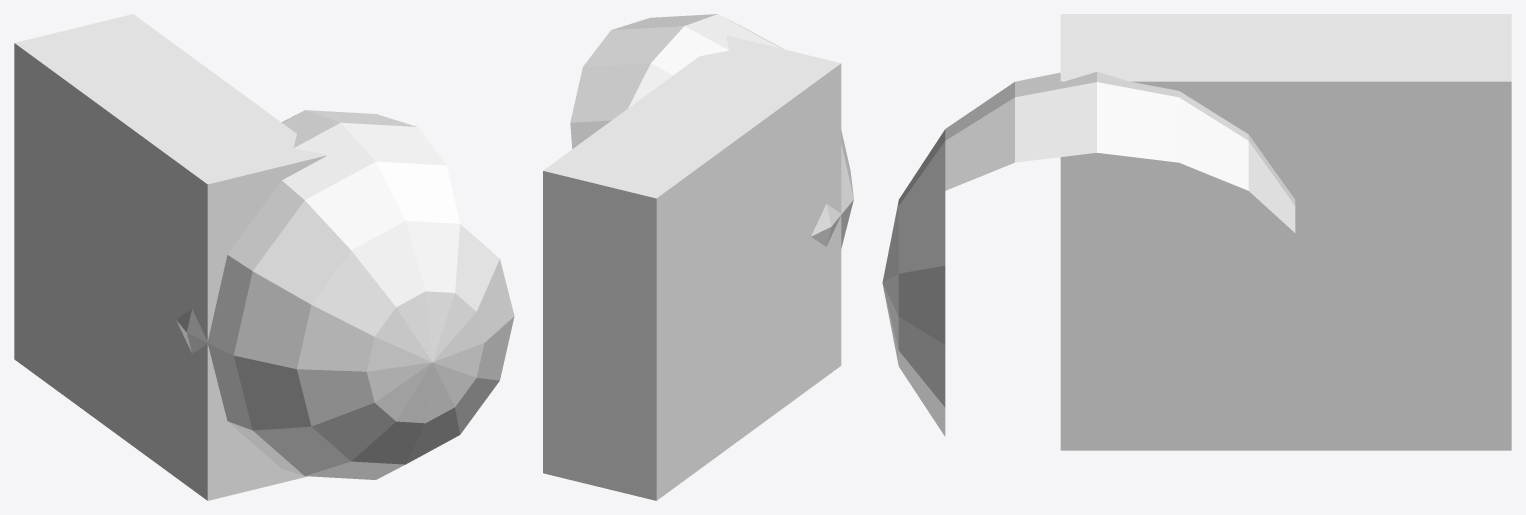
Rendered from hair_long.glb.
3 views of the same model, side by side, from view 1: azimuth 30°, elevation 25°; view 2: azimuth 150°, elevation 25°; view 3: azimuth 270°, elevation 25° (orthographic). The views are drawn at different scales.
Parts seen in each view (by area): view 1: hair_long; view 2: hair_long; view 3: hair_long.
Part boxes in pixels (box(x1,y1,x2,y2)): hair_long: box(14, 14, 514, 500); hair_long: box(543, 14, 853, 500); hair_long: box(882, 14, 1511, 450).
Bounding box in the file's own units: 0.4865 × 0.61 × 0.865.
Materials: 1 (1 with a texture image).
